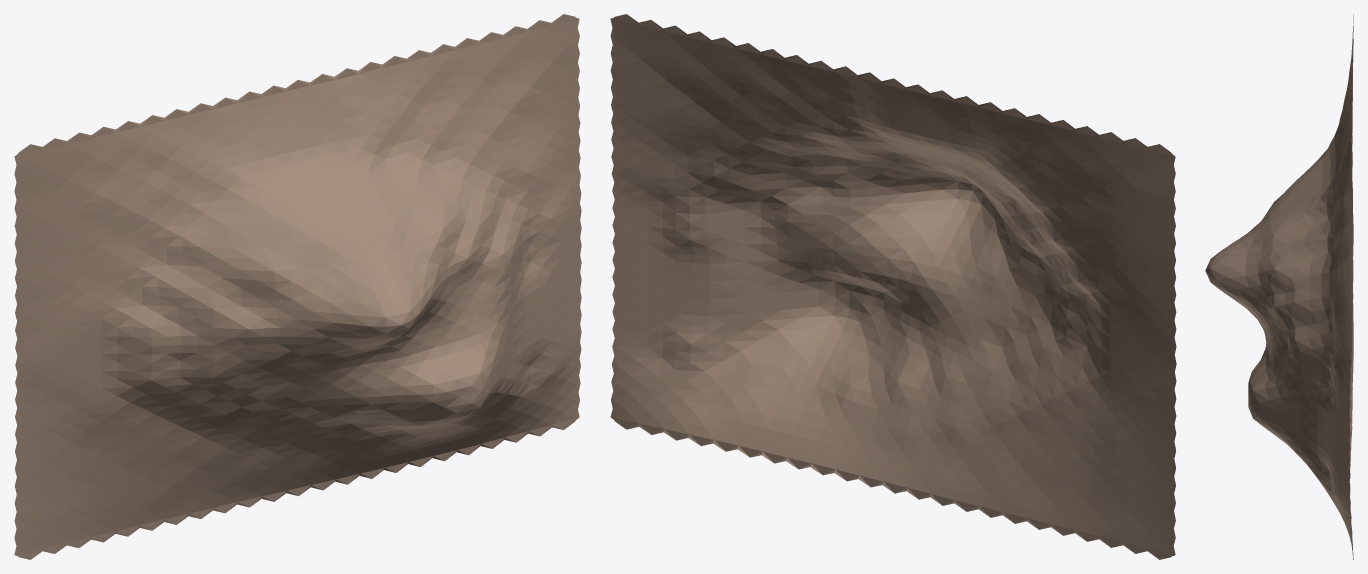
The model's file is div_iteration_0.gltf.
3 views of the same model, side by side, from view 1: azimuth 30°, elevation 25°; view 2: azimuth 150°, elevation 25°; view 3: azimuth 270°, elevation 25° (orthographic). The views are drawn at different scales.
Bounding box in the file's own units: 1241 × 873 × 350.
